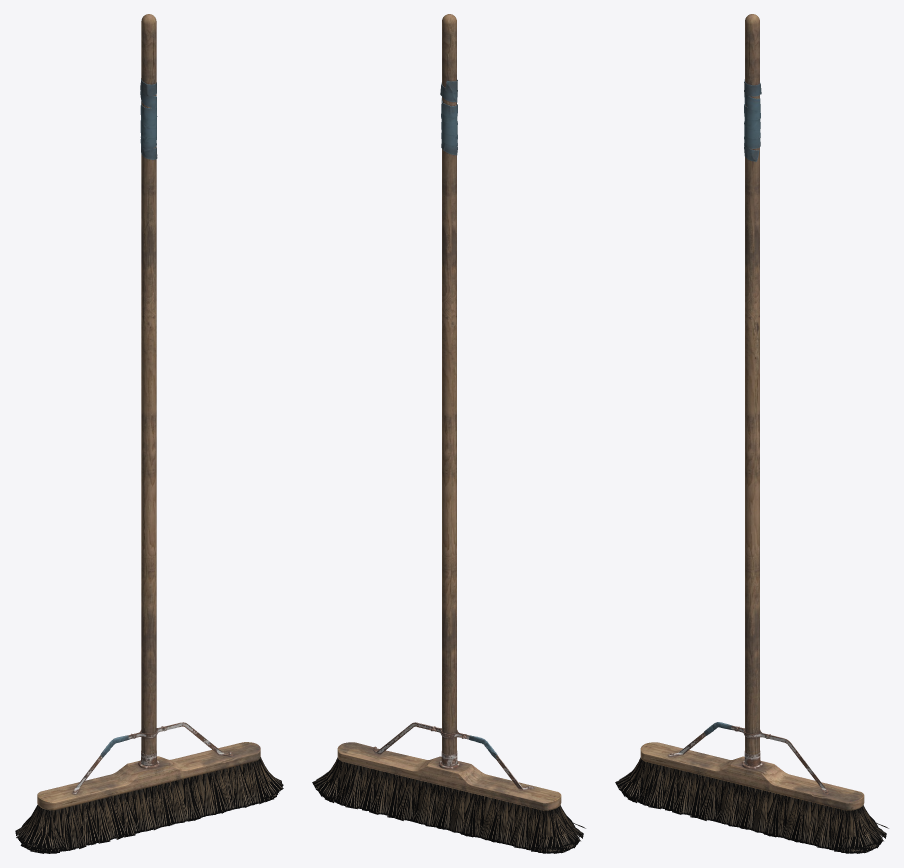
The model's file is wooden_broom.gltf.
3 renders of one model, left to right at view 1: azimuth 30°, elevation 25°; view 2: azimuth 150°, elevation 25°; view 3: azimuth 330°, elevation 25°, orthographic.
Visible parts, largest first — view 1: wooden_broom_handle, wooden_broom_bristles, wooden_broom; view 2: wooden_broom_handle, wooden_broom_bristles, wooden_broom; view 3: wooden_broom_handle, wooden_broom_bristles, wooden_broom.
Part boxes in pixels (<box>): wooden_broom_handle: <box>140,14,157,765</box>; wooden_broom_bristles: <box>15,757,283,853</box>; wooden_broom: <box>37,722,260,817</box>; wooden_broom_handle: <box>440,14,457,766</box>; wooden_broom_bristles: <box>312,757,585,853</box>; wooden_broom: <box>337,722,565,826</box>; wooden_broom_handle: <box>744,14,761,766</box>; wooden_broom_bristles: <box>615,757,888,853</box>; wooden_broom: <box>640,722,864,826</box>.
Size of the model in its own units: 0.4902 by 1.45 by 0.1125.
Materials: 2 (2 with a texture image).
